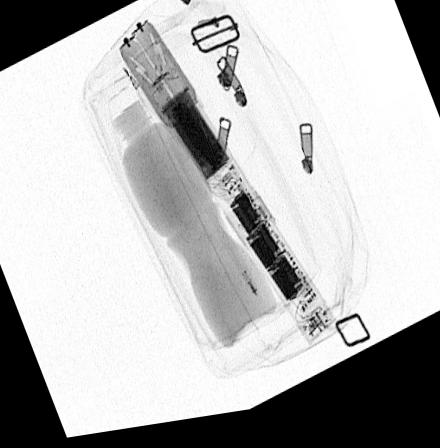Baton: (116, 20, 338, 354)
